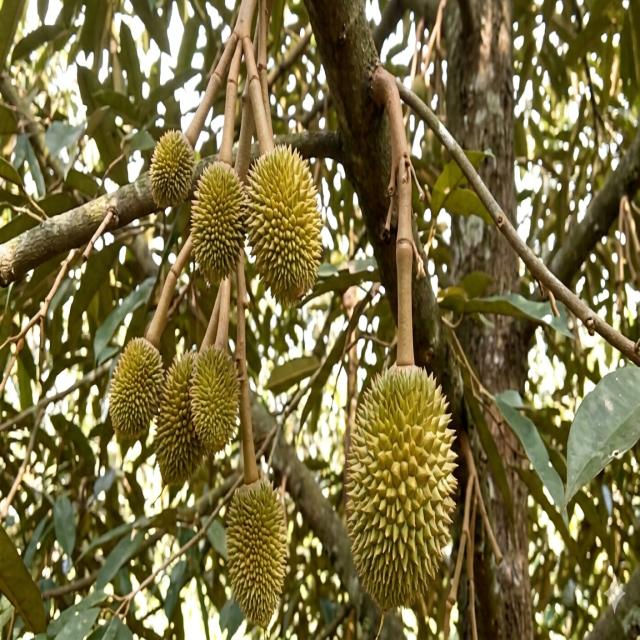immature: (344, 360, 458, 614), (243, 141, 324, 307), (224, 477, 289, 626), (154, 349, 209, 485), (189, 159, 248, 283), (108, 335, 165, 440), (189, 343, 240, 450), (149, 126, 197, 208)
